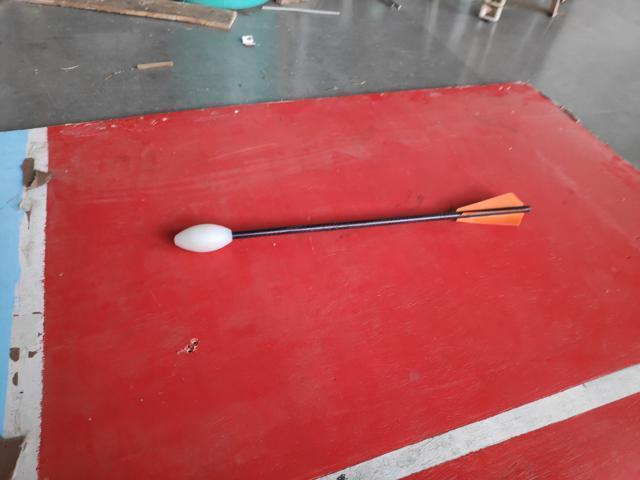Head: (169, 222, 235, 255)
Tail: (448, 191, 534, 230)
